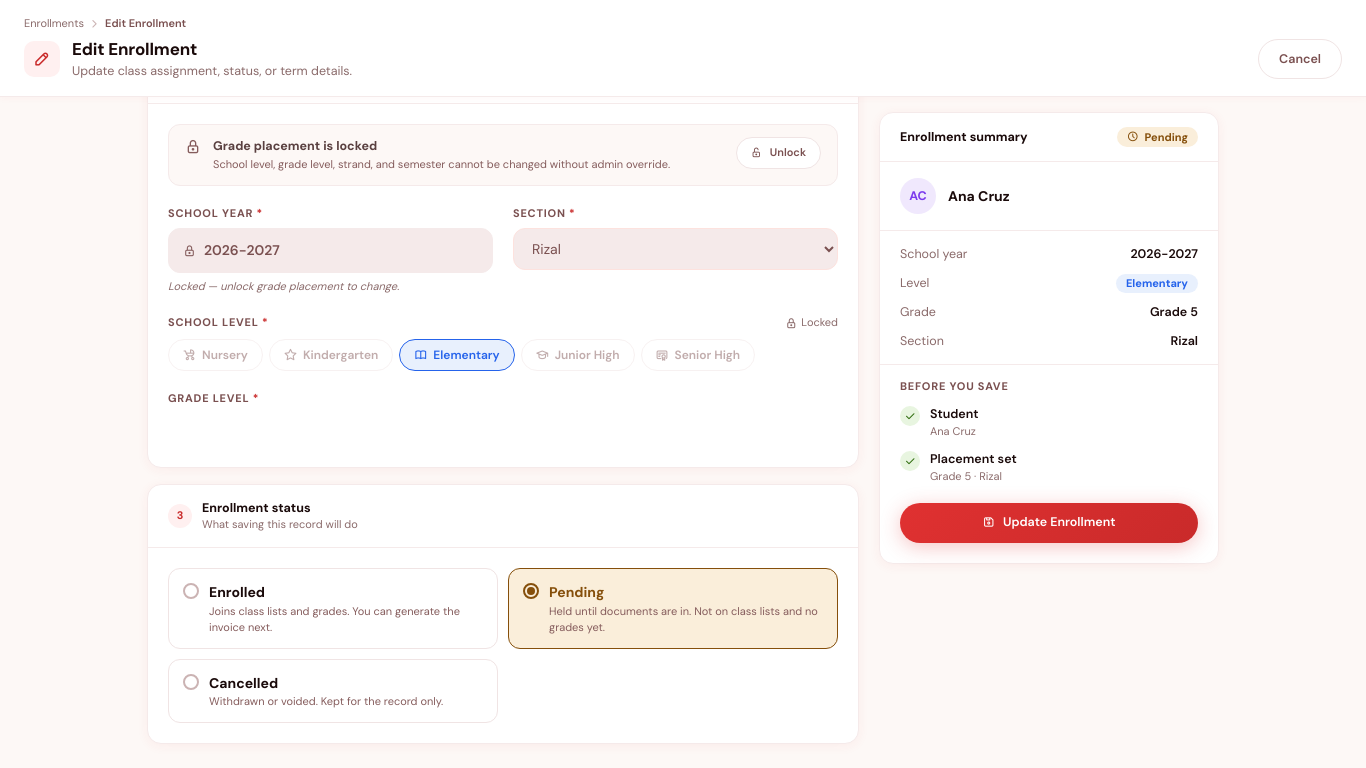
Activating a pending enrollment › sends the confirmation and offers the registrar the invoice
(page scrolled)
Click the radio button that starts with "Enrolled".
click(333, 608)  # box x1=168 y1=568 x2=498 y2=649
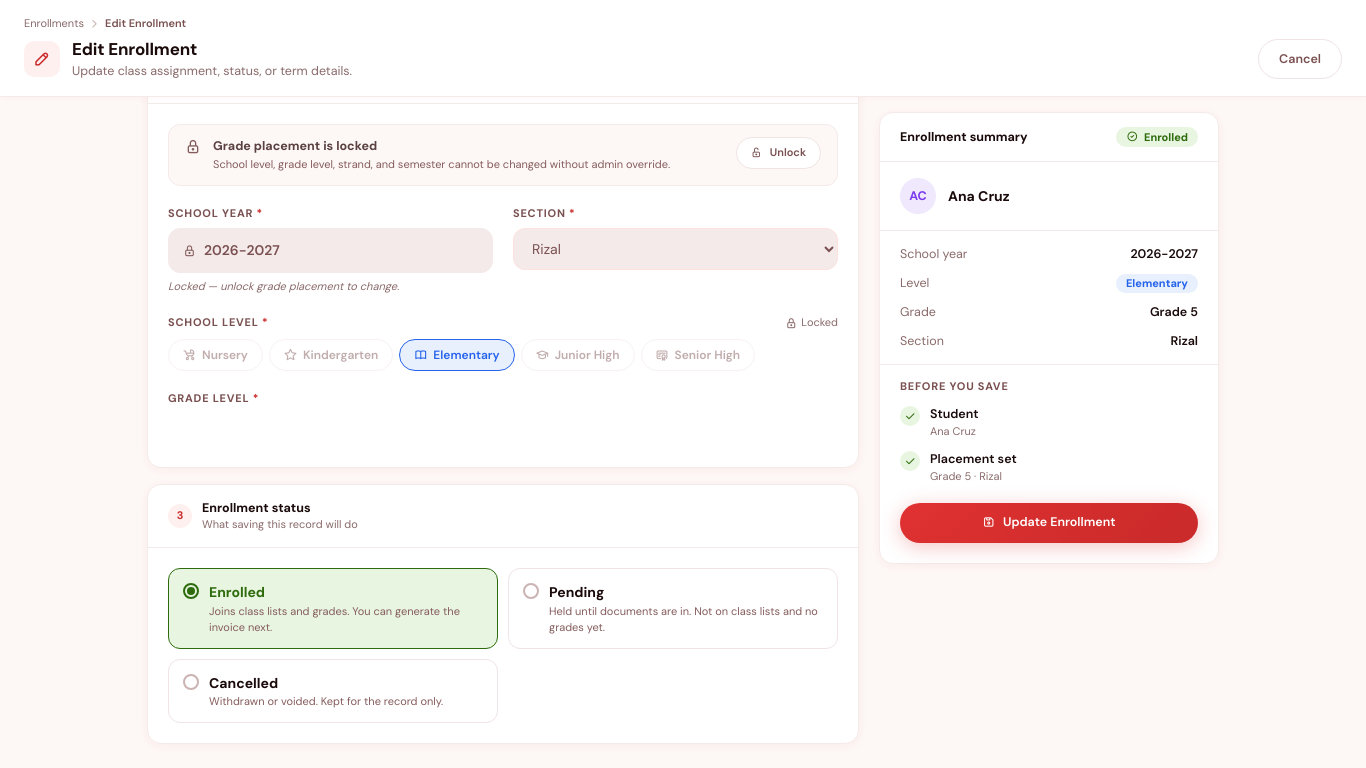
Click the button "Update Enrollment".
click(1049, 522)  # box x1=900 y1=502 x2=1198 y2=542
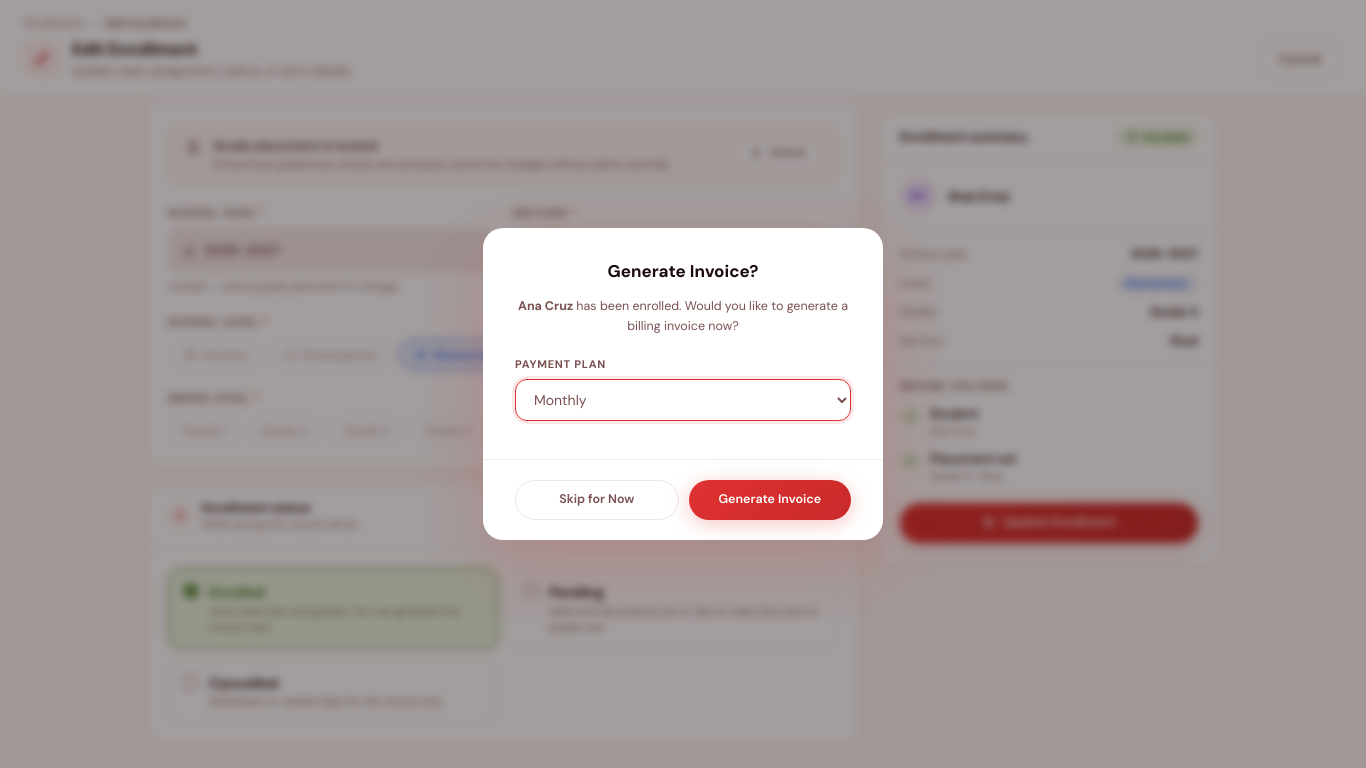
Expected: the heading "Generate Invoice?" is shown, x1=608 y1=260 x2=758 y2=284
